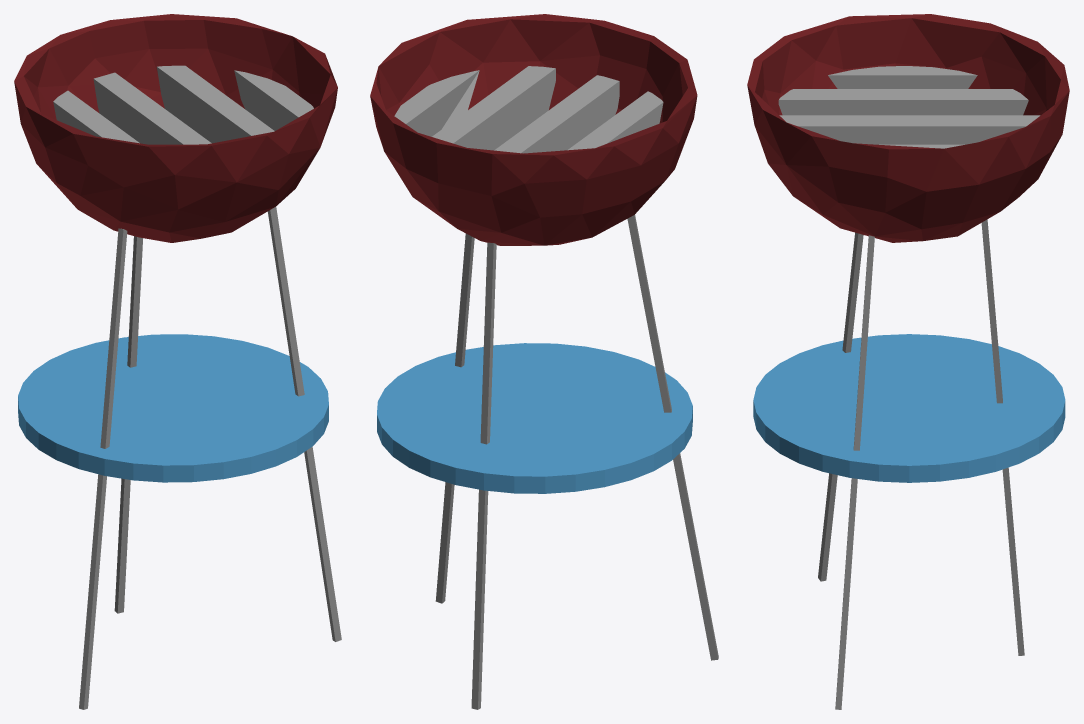
The model's file is grills.fbx.
3 views of the same model, side by side, from view 1: azimuth 30°, elevation 25°; view 2: azimuth 150°, elevation 25°; view 3: azimuth 270°, elevation 25° (orthographic).
Parts seen in each view (by area): view 1: Sphere.001, Circle, Sphere, Cube.001; view 2: Sphere.001, Circle, Sphere, Cube.001; view 3: Sphere.001, Circle, Sphere, Cube.001.
Part boxes in pixels (x1,y1,x2,y2): Sphere.001: [14, 14, 337, 242]; Circle: [18, 334, 328, 482]; Sphere: [53, 65, 313, 144]; Cube.001: [79, 206, 341, 709]; Sphere.001: [370, 14, 697, 245]; Circle: [377, 343, 692, 493]; Sphere: [394, 66, 663, 153]; Cube.001: [435, 215, 718, 709]; Sphere.001: [747, 14, 1069, 242]; Circle: [753, 334, 1065, 482]; Sphere: [778, 66, 1040, 148]; Cube.001: [818, 219, 1024, 709].
Size of the model in its own units: 207 by 407 by 207.
